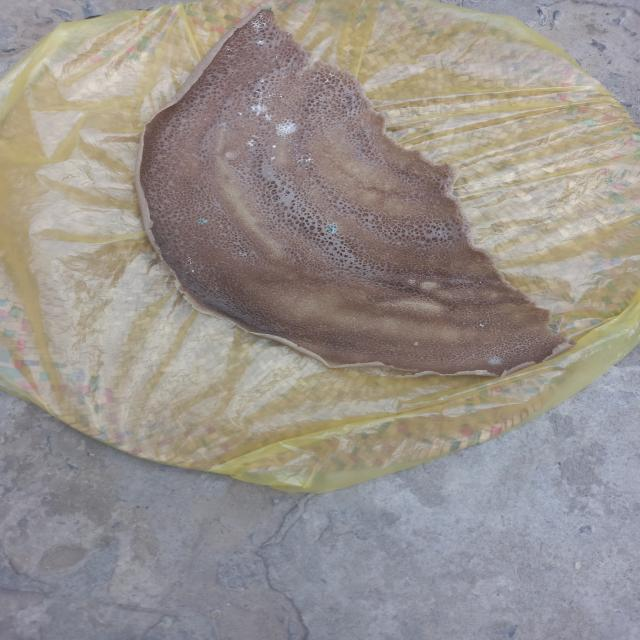injera_mold: (272, 120, 298, 136), (252, 12, 271, 30), (291, 153, 315, 164), (250, 102, 269, 114), (254, 89, 276, 99), (325, 222, 340, 234), (486, 356, 504, 366), (245, 138, 258, 147), (262, 112, 275, 121), (195, 217, 209, 225), (322, 77, 332, 85), (255, 39, 265, 46), (224, 45, 234, 52), (238, 252, 248, 258), (412, 340, 421, 346), (258, 78, 267, 84), (478, 322, 486, 328), (270, 144, 278, 149), (270, 156, 276, 160), (225, 54, 232, 57)
